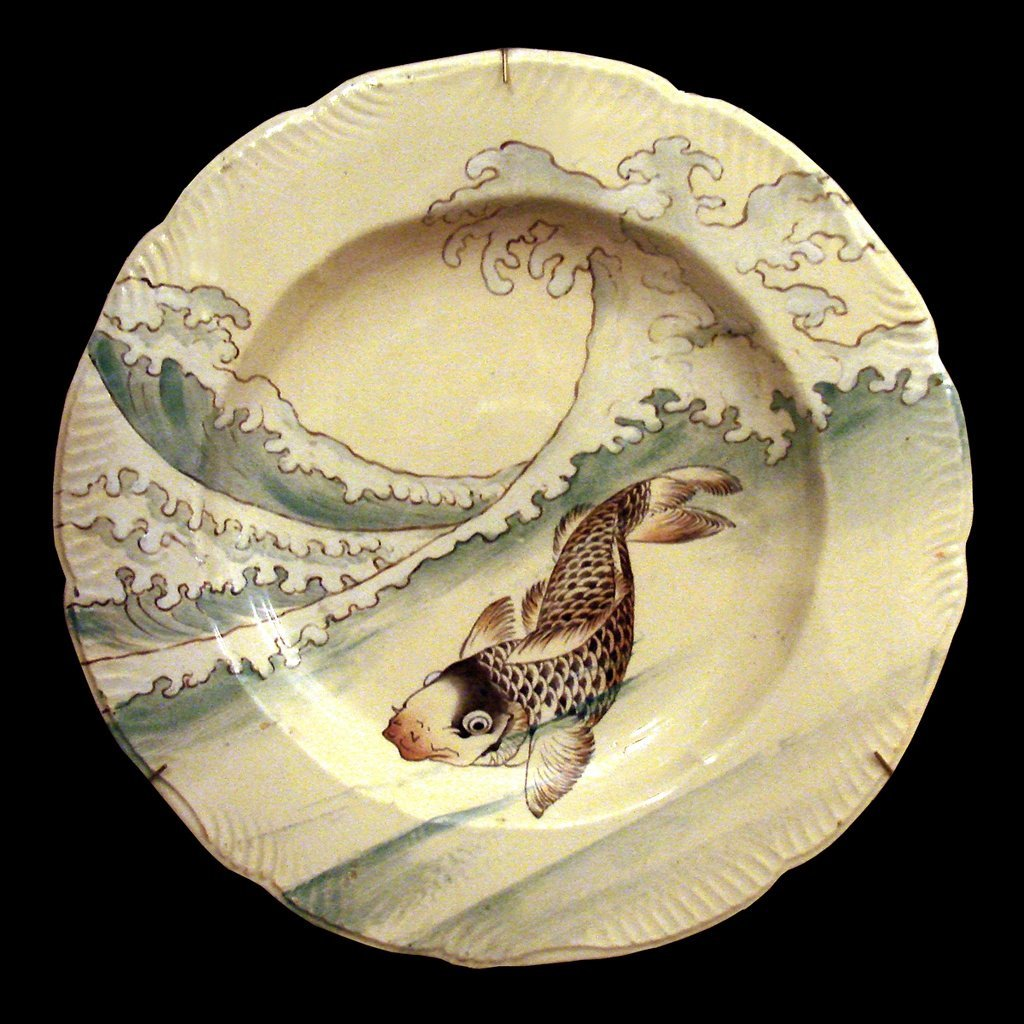plate: (51, 44, 974, 968)
